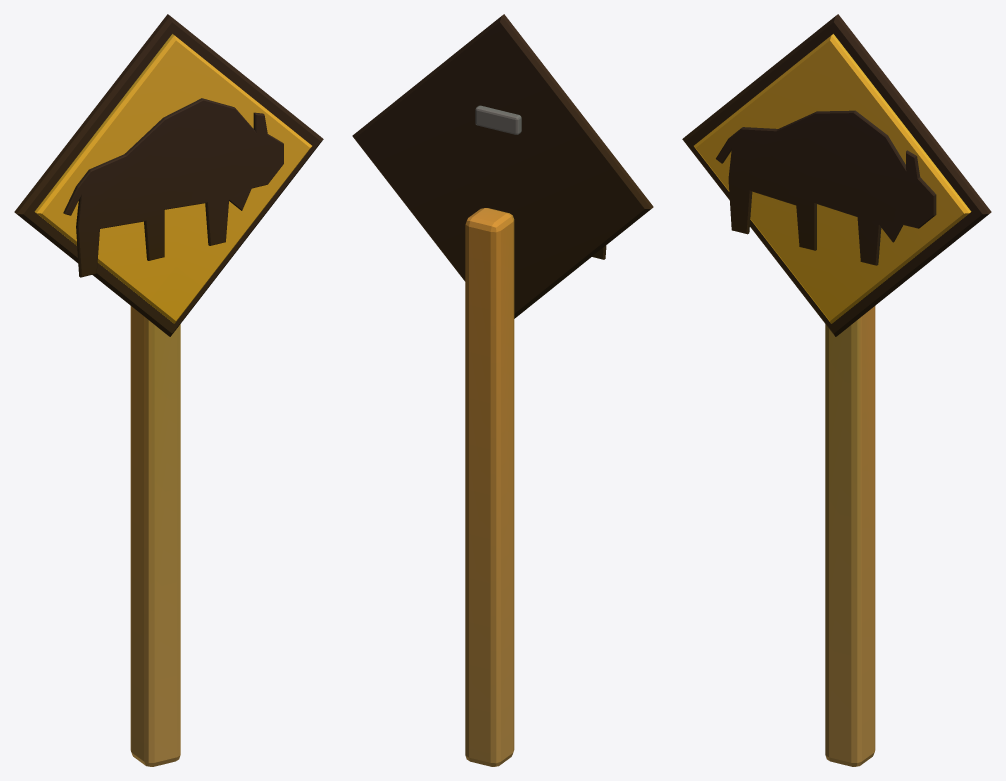
Rendered from Sign_BisonCrossing_01.glb.
3 renders of one model, left to right at view 1: azimuth 30°, elevation 25°; view 2: azimuth 150°, elevation 25°; view 3: azimuth 330°, elevation 25°, orthographic. The views are drawn at different scales.
Parts seen in each view (by area): view 1: Sign_BisonCrossing_01; view 2: Sign_BisonCrossing_01; view 3: Sign_BisonCrossing_01.
Part boxes in pixels (left/top/right/bottom): Sign_BisonCrossing_01: left=14, top=14, right=323, bottom=766; Sign_BisonCrossing_01: left=352, top=14, right=653, bottom=766; Sign_BisonCrossing_01: left=682, top=14, right=991, bottom=766.
Size of the model in its own units: 1.38 by 3.24 by 0.255.
